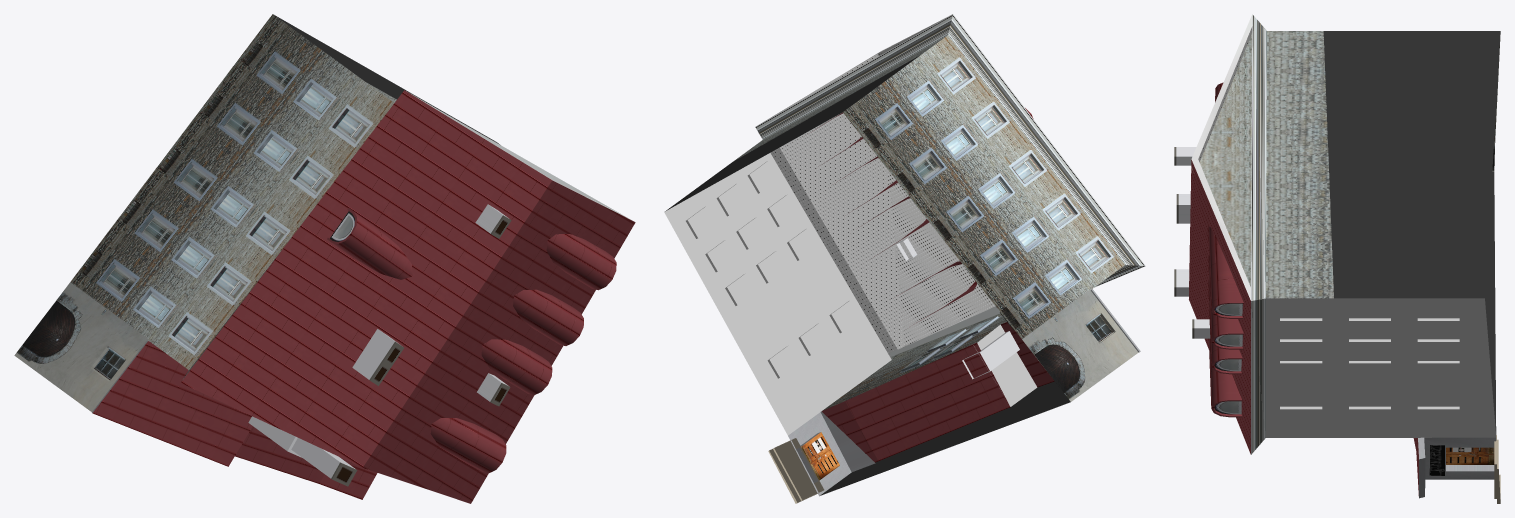
The model's file is Laboratooriumi_16.obj.
3 renders of one model, left to right at view 1: azimuth 30°, elevation 25°; view 2: azimuth 150°, elevation 25°; view 3: azimuth 270°, elevation 25°, orthographic. The views are drawn at different scales.
Parts seen in each view (by area): view 1: Laboratooriumi_16; view 2: Laboratooriumi_16; view 3: Laboratooriumi_16.
Boxes of the visible parts, left/top/right/bottom form: Laboratooriumi_16: left=14, top=14, right=635, bottom=503; Laboratooriumi_16: left=664, top=14, right=1145, bottom=503; Laboratooriumi_16: left=1174, top=14, right=1500, bottom=503.
Bounding box in the file's own units: 27.37 × 25.69 × 16.34.
